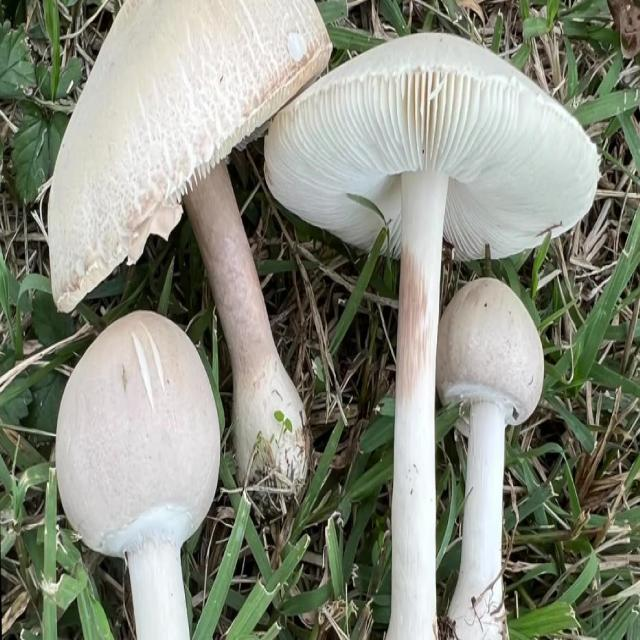Mushroom: (51, 5, 608, 617)
